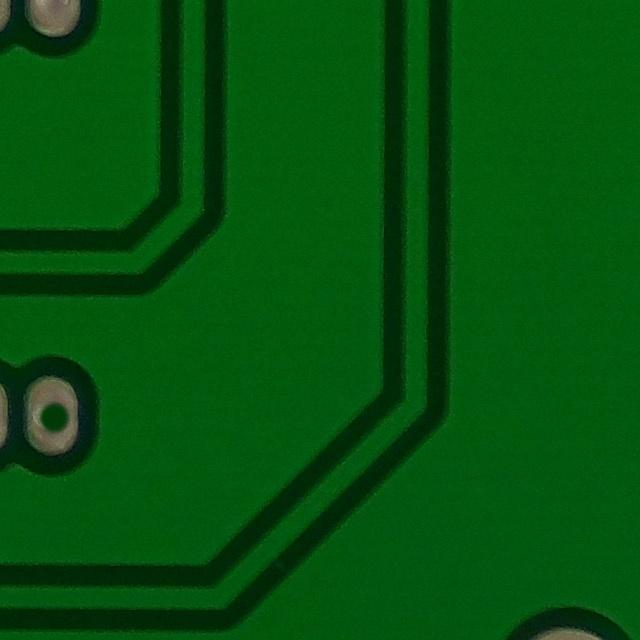missing_hole: (12, 366, 95, 464)
